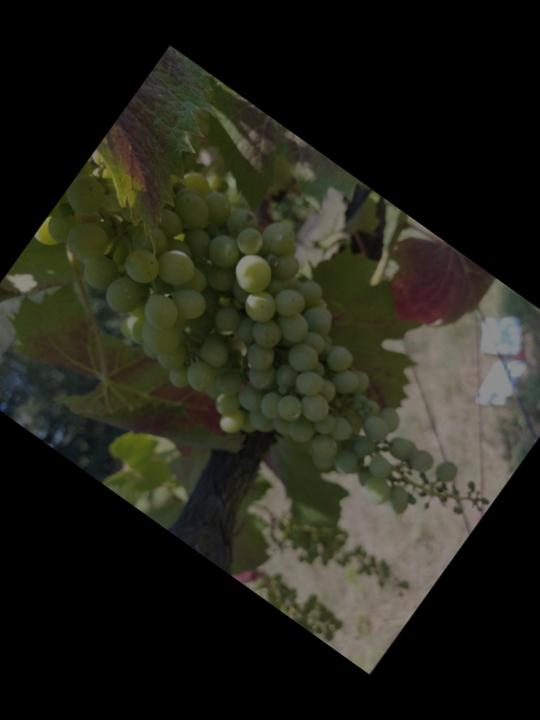grape: (7, 109, 540, 582)
